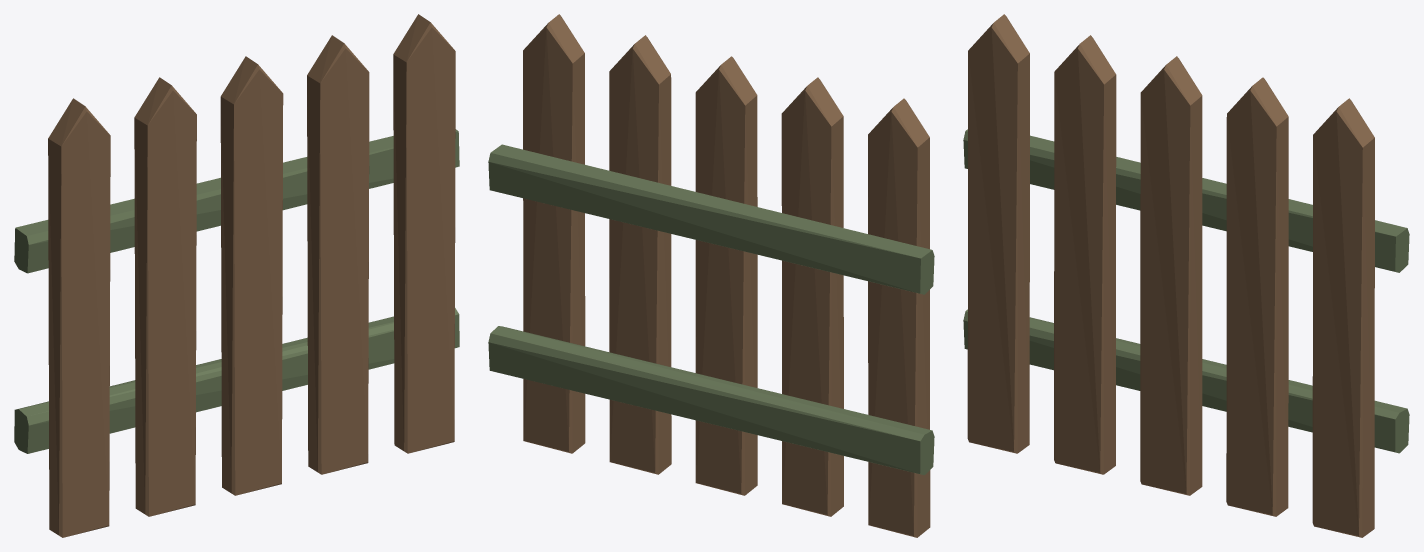
The model's file is SM_Kit_Fence_Picket_LOD1.glb.
3 views of the same model, side by side, from view 1: azimuth 30°, elevation 25°; view 2: azimuth 150°, elevation 25°; view 3: azimuth 330°, elevation 25° (orthographic).
Visible parts, largest first — view 1: SM_Kit_Fence_Picket_LOD1; view 2: SM_Kit_Fence_Picket_LOD1; view 3: SM_Kit_Fence_Picket_LOD1.
Boxes of the visible parts, x1,y1,x2,y2 form: SM_Kit_Fence_Picket_LOD1: (14, 14, 459, 537); SM_Kit_Fence_Picket_LOD1: (488, 14, 934, 537); SM_Kit_Fence_Picket_LOD1: (963, 14, 1409, 537).
Size of the model in its own units: 1 by 0.9428 by 0.12.
